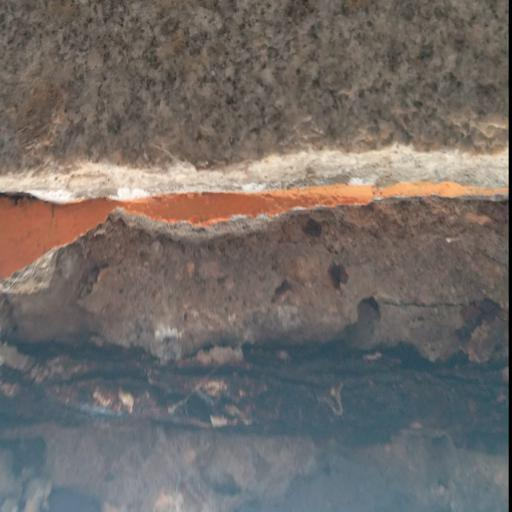spalling: (0, 123, 512, 289)
